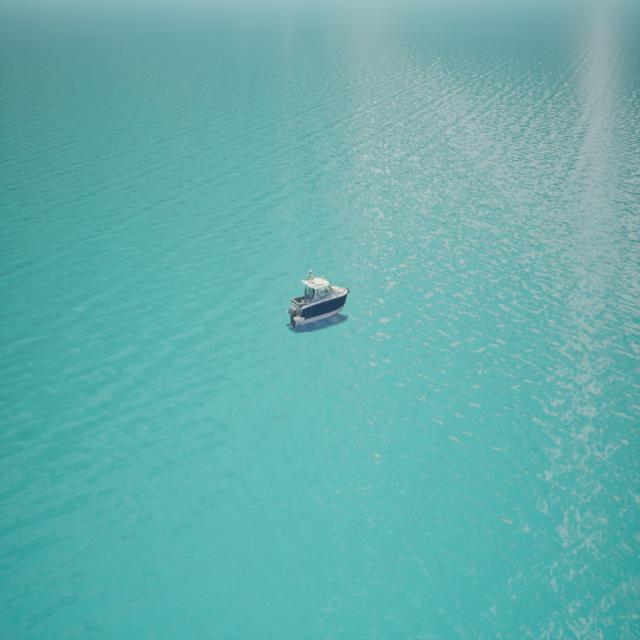ship: (288, 271, 348, 332)
